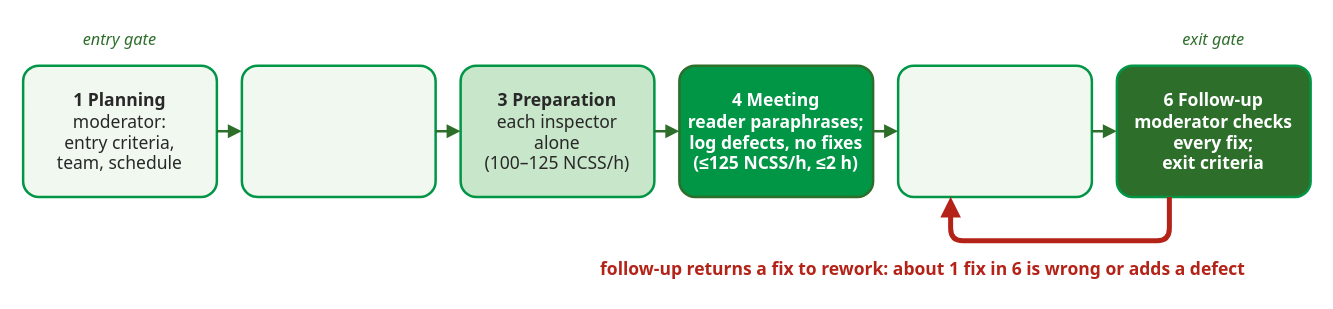
Image size: 1333x309. Some labels were removed from this diagram. The centre of each missing label's shape, as x and y in pixels:
"2 Overview author explains the artifact (≈500 NCSS/h)" belongs at pixel 338 131.
"5 Rework author fixes every logged defect" belongs at pixel 994 131.
